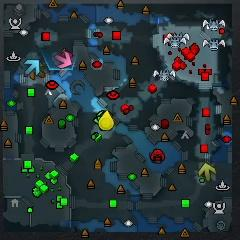p4: (98, 110, 114, 130)
x1: (55, 51, 72, 69)
x2: (198, 163, 216, 181)
x3: (25, 59, 39, 75)
x5: (30, 63, 45, 80)
